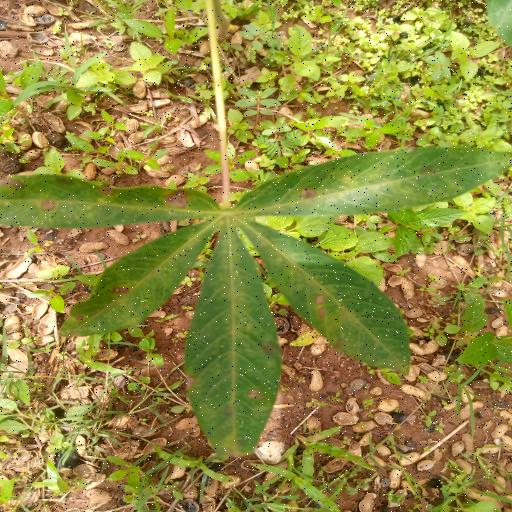Cassava_Brown_Leaf_Spot: (5, 132, 512, 460)
